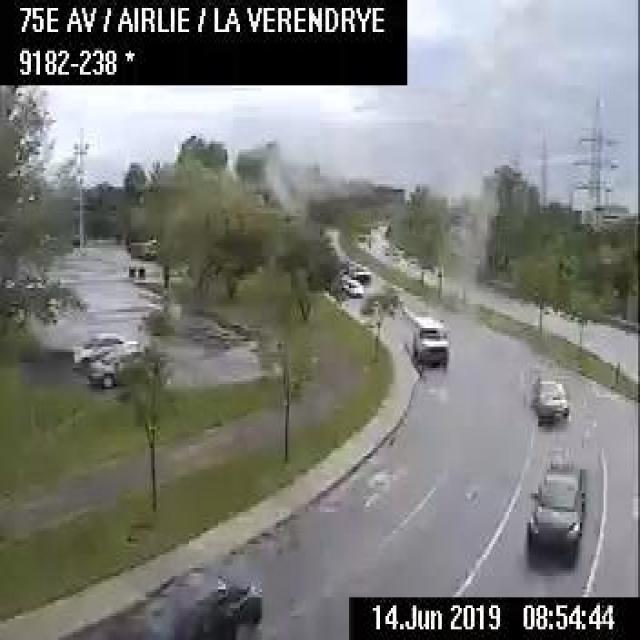vehicle: (116, 566, 259, 638), (525, 460, 586, 558), (405, 309, 449, 367), (88, 342, 143, 388), (72, 328, 135, 366), (527, 374, 570, 424), (340, 278, 362, 299), (352, 262, 371, 282)
